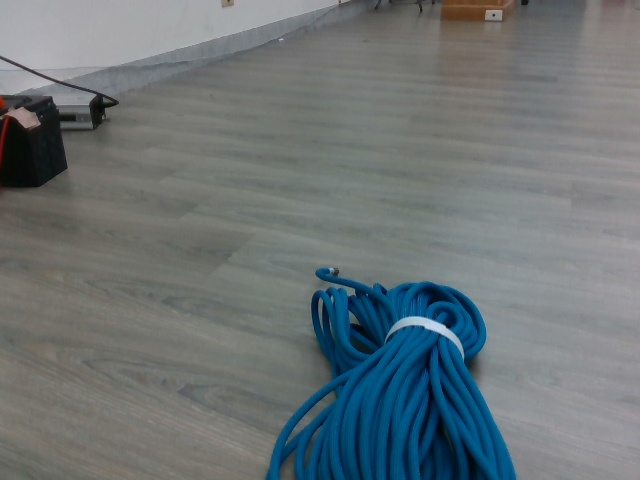rope: (262, 268, 522, 480)
